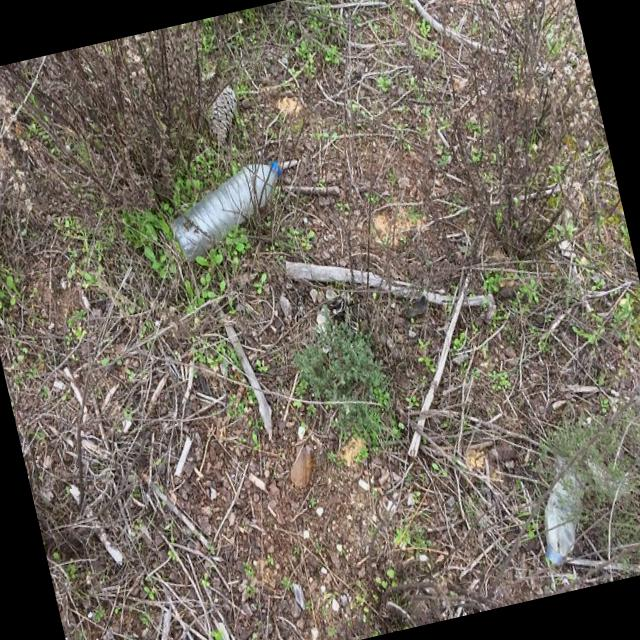Recycle: (155, 154, 314, 250), (522, 457, 616, 572)
